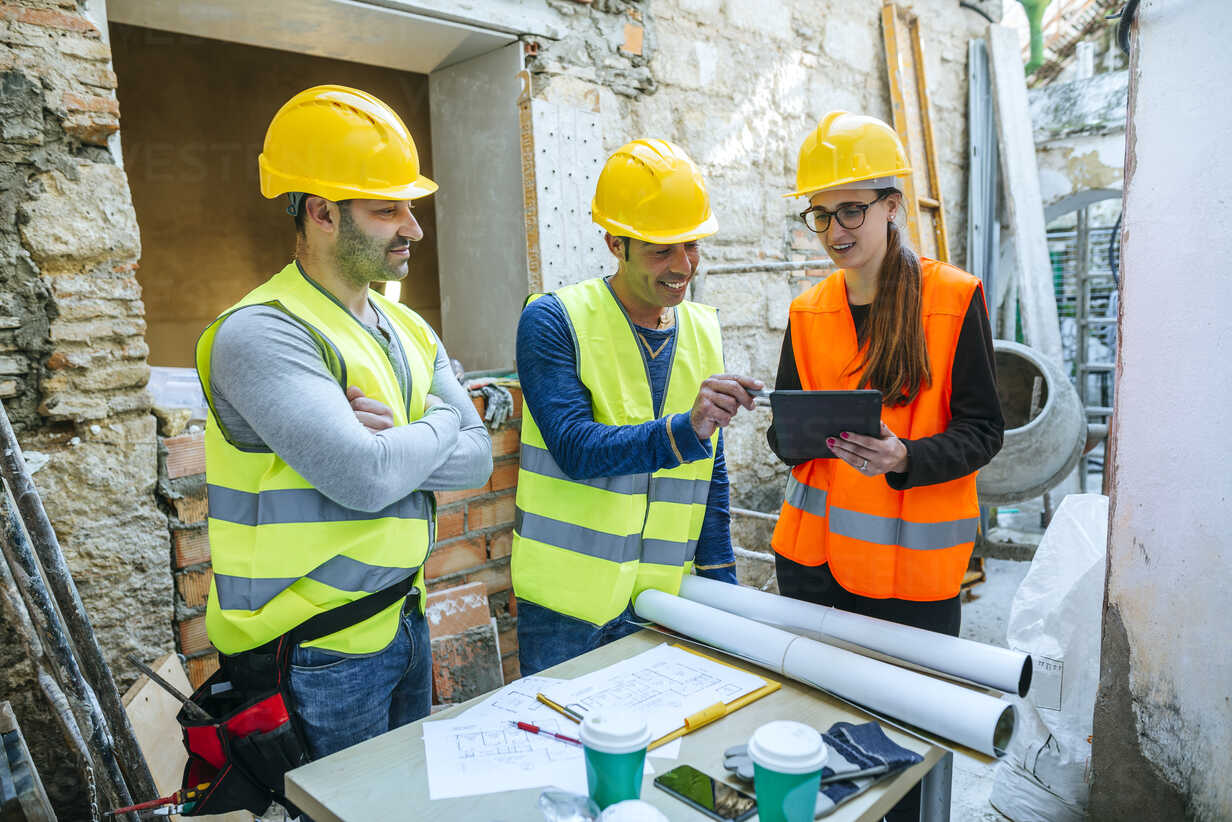With Helmet: (252, 82, 442, 286), (589, 129, 726, 317), (787, 107, 919, 269)
